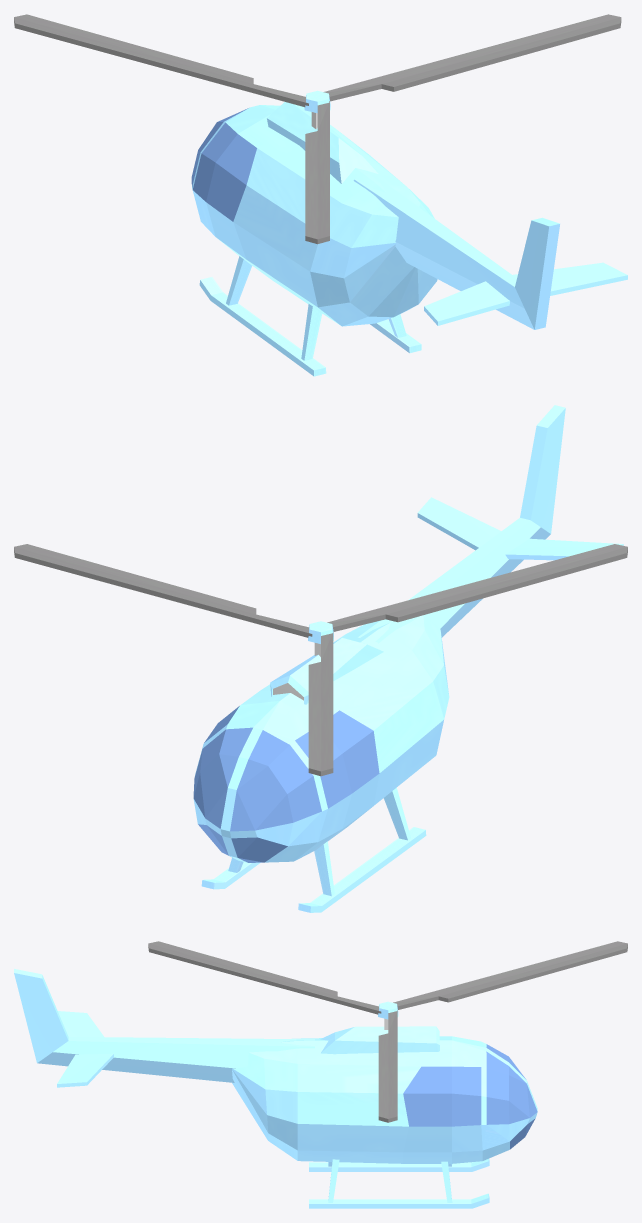
File: transport_air.009.glb
3 views of the same model, one above another, from view 1: azimuth 30°, elevation 25°; view 2: azimuth 150°, elevation 25°; view 3: azimuth 270°, elevation 25° (orthographic). The views are drawn at different scales.
Parts seen in each view (by area): view 1: transport_air.009(Clone); view 2: transport_air.009(Clone); view 3: transport_air.009(Clone).
Boxes of the visible parts, <box> form: transport_air.009(Clone): <box>14,14,627,376</box>; transport_air.009(Clone): <box>14,405,627,912</box>; transport_air.009(Clone): <box>14,941,627,1208</box>.
Size of the model in its own units: 4.4 by 2.51 by 6.42.
Materials: 1 (1 with a texture image).
